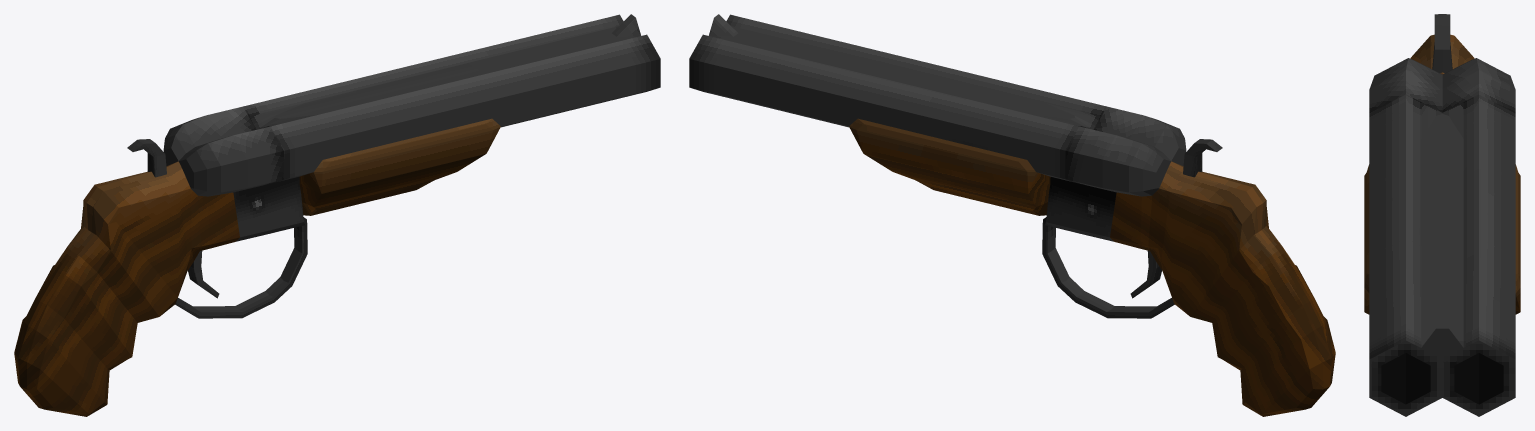
The model's file is falling_pistol.glb.
3 views of the same model, side by side, from view 1: azimuth 30°, elevation 25°; view 2: azimuth 150°, elevation 25°; view 3: azimuth 270°, elevation 25° (orthographic). The views are drawn at different scales.
Parts seen in each view (by area): view 1: Mango, Barril, Martillo; view 2: Mango, Barril, Martillo; view 3: Barril, Mango, Martillo.
Boxes of the visible parts, x1,y1,x2,y2 form: Mango: (14,106,307,416); Barril: (243,14,660,215); Martillo: (127,139,166,177); Mango: (1042,106,1335,416); Barril: (689,14,1106,215); Martillo: (1183,139,1222,177); Barril: (1364,94,1520,416); Mango: (1369,34,1515,113); Martillo: (1432,14,1452,72).
Size of the model in its own units: 0.2598 by 0.1068 by 0.0427.
1 material, 1 textured.
